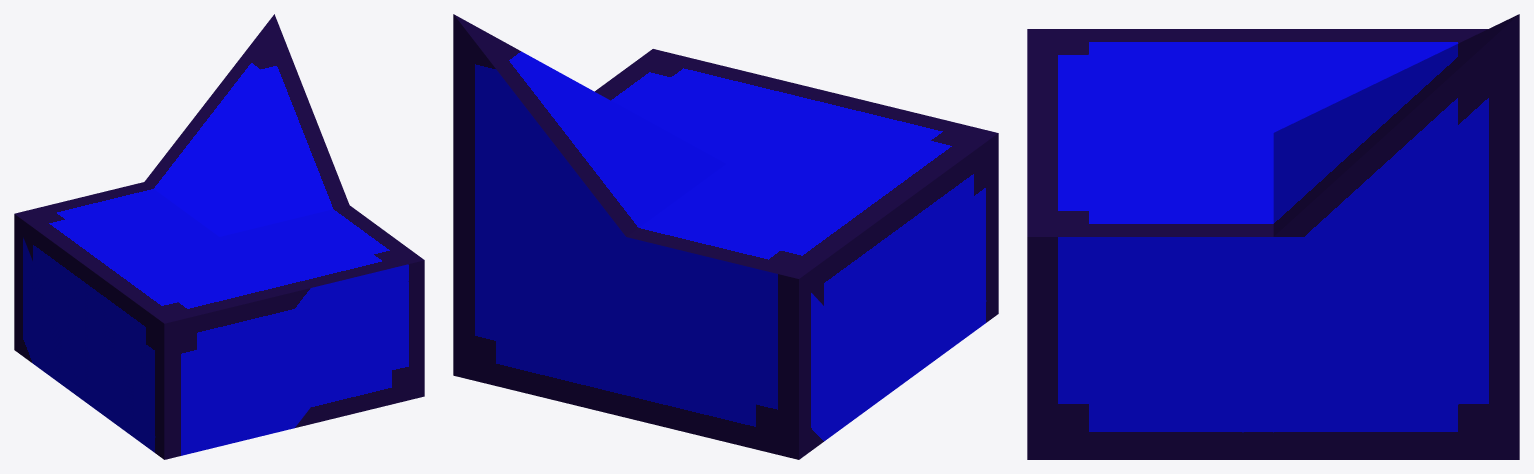
The model's file is 12_blue.obj.
3 renders of one model, left to right at view 1: azimuth 30°, elevation 25°; view 2: azimuth 150°, elevation 25°; view 3: azimuth 270°, elevation 25°, orthographic. The views are drawn at different scales.
Visible parts, largest first — view 1: 12_blue; view 2: 12_blue; view 3: 12_blue.
Part boxes in pixels (x1=…): 12_blue: x1=14, y1=14, x2=424, y2=459; 12_blue: x1=453, y1=14, x2=998, y2=459; 12_blue: x1=1027, y1=14, x2=1519, y2=459.
Size of the model in its own units: 1 by 1 by 1.
1 material, 1 textured.
